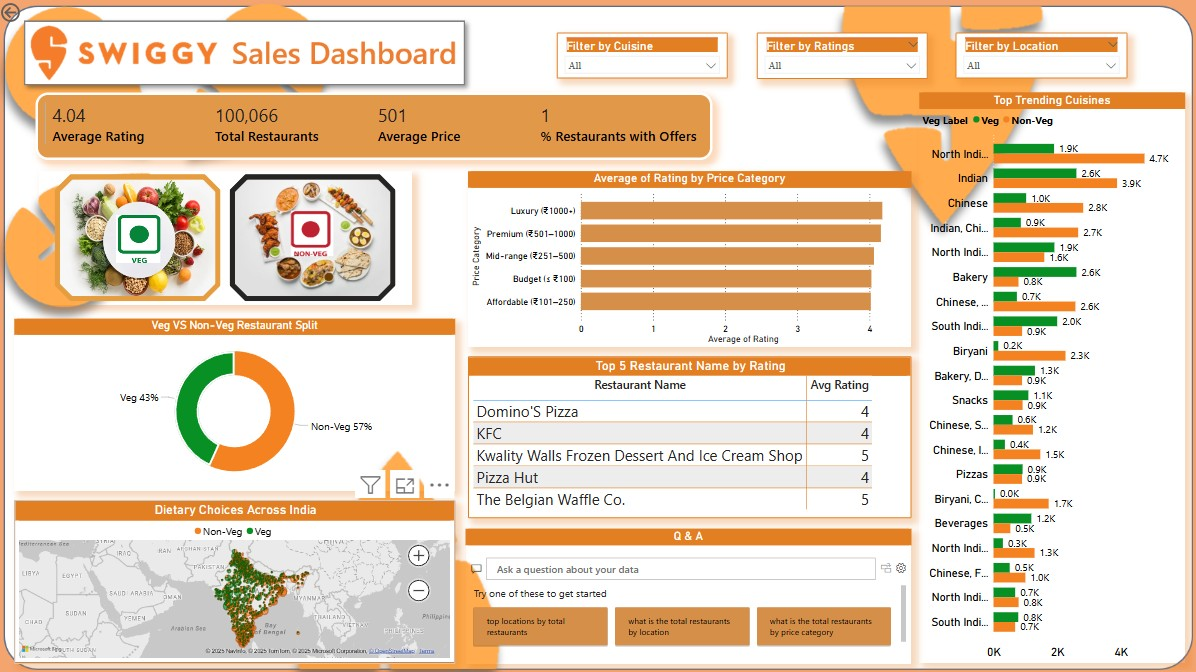

Layout of this report page (visuals, bound fields, positions):
{"tool":"powerbi","page":{"name":"Page 1","canvas":[1920,1080],"ordinal":0},"visuals":[{"type":"advancedSlicerVisual","fields":{"Values":["image_links.Column2"]},"box":[65.8,273.5,596.4,213.9],"z":0},{"type":"donutChart","title":"Veg VS Non-Veg Restaurant Split","fields":{"Y":["Swiggyy_Final_With_Calculated_Columns.Total Restaurants"],"Category":["Swiggyy_Final_With_Calculated_Columns.Veg Label"]},"box":[26.7,510,705.4,275.6],"z":1000},{"type":"slicer","fields":{"Values":["Swiggyy_Final_With_Calculated_Columns.Cuisine"]},"box":[893.3,51.7,273.3,73.3],"z":2000},{"type":"slicer","fields":{"Values":["Swiggyy_Final_With_Calculated_Columns.Location"]},"box":[1531.7,51.7,275,73.3],"z":3000},{"type":"tableEx","title":"Top 5 Restaurant Name by Rating","fields":{"Values":["Swiggyy_Final_With_Calculated_Columns.Restaurant Name","Swiggyy_Final_With_Calculated_Columns.Avg Rating"]},"box":[752.7,569.7,709.5,259.1],"z":4000},{"type":"actionButton","box":[0,0,100,40],"z":5000},{"type":"map","title":"Dietary Choices Across India","fields":{"Category":["Swiggyy_Final_With_Calculated_Columns.Location"],"Size":["CountNonNull(Swiggyy_Final_With_Calculated_Columns.Restaurant Name)"],"Series":["Swiggyy_Final_With_Calculated_Columns.Veg Label"]},"box":[26.7,800,705.4,261.2],"z":6000},{"type":"barChart","fields":{"Category":["Swiggyy_Final_With_Calculated_Columns.Price Category"],"Y":["Avg(Swiggyy_Final_With_Calculated_Columns.Rating)"]},"box":[752.7,273.5,709.5,281.7],"z":7000},{"type":"slicer","fields":{"Values":["Swiggyy_Final_With_Calculated_Columns.Number of Ratings"]},"box":[1213.4,51.4,273.5,74],"z":8000},{"type":"qnaVisual","title":"Q & A ","box":[748.6,845.2,713.6,215.9],"z":9000},{"type":"clusteredBarChart","title":"Top Trending Cuisines","fields":{"Category":["Swiggyy_Final_With_Calculated_Columns.Cuisine"],"Y":["CountNonNull(Swiggyy_Final_With_Calculated_Columns.Restaurant Name)"],"Series":["Swiggyy_Final_With_Calculated_Columns.Veg Label"]},"box":[1474.6,148.1,425.7,913.1],"z":10000},{"type":"multiRowCard","fields":{"Values":["Swiggyy_Final_With_Calculated_Columns.Avg Rating","Swiggyy_Final_With_Calculated_Columns.Total Restaurants","Swiggyy_Final_With_Calculated_Columns.Average Price","Swiggyy_Final_With_Calculated_Columns.% Restaurants with Offers FIXED"]},"box":[60,148.3,1083.3,108.3],"z":15001}]}

Visuals, with their boxes in screenshot pixels (x1, y1, x2, y2), scaled from the page's 1920x1080 canvas onto the 1196x672 screenshot:
advancedSlicerVisual - image_links.Column2: BBox(41, 170, 412, 303)
"Veg VS Non-Veg Restaurant Split" donutChart: BBox(17, 317, 456, 489)
slicer - Swiggyy_Final_With_Calculated_Columns.Cuisine: BBox(556, 32, 727, 78)
slicer - Swiggyy_Final_With_Calculated_Columns.Location: BBox(954, 32, 1125, 78)
"Top 5 Restaurant Name by Rating" tableEx: BBox(469, 354, 911, 516)
actionButton: BBox(0, 0, 62, 25)
"Dietary Choices Across India" map: BBox(17, 498, 456, 660)
barChart - Swiggyy_Final_With_Calculated_Columns.Price Category x Avg(Swiggyy_Final_With_Calculated_Columns.Rating): BBox(469, 170, 911, 345)
slicer - Swiggyy_Final_With_Calculated_Columns.Number of Ratings: BBox(756, 32, 926, 78)
"Q & A " qnaVisual: BBox(466, 526, 911, 660)
"Top Trending Cuisines" clusteredBarChart: BBox(919, 92, 1184, 660)
multiRowCard - Swiggyy_Final_With_Calculated_Columns.Avg Rating x Swiggyy_Final_With_Calculated_Columns.Total Restaurants: BBox(37, 92, 712, 160)
